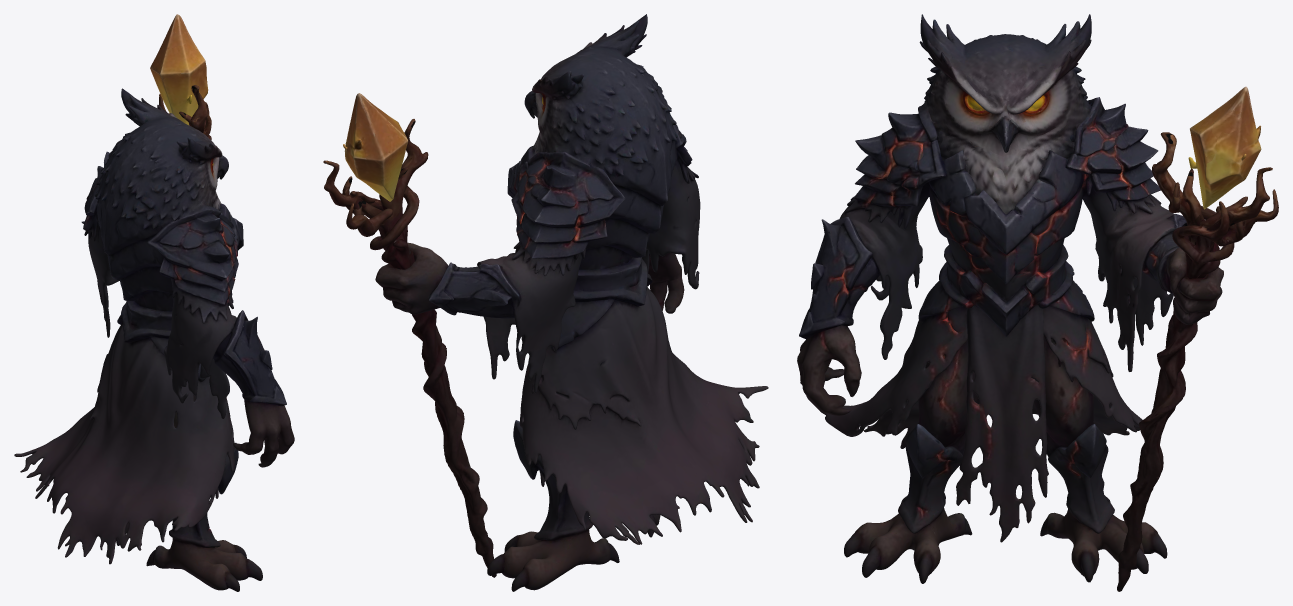
The model's file is umber_model.glb.
The picture shows the model from 3 angles, left to right: view 1: azimuth 30°, elevation 25°; view 2: azimuth 150°, elevation 25°; view 3: azimuth 270°, elevation 25°; orthographic projection. The views are drawn at different scales.
Visible parts, largest first — view 1: tripo_part_7, tripo_part_0, tripo_part_5, tripo_part_1, tripo_part_13, tripo_part_6, tripo_part_9, tripo_part_11; view 2: tripo_part_7, tripo_part_9, tripo_part_5, tripo_part_11, tripo_part_8, tripo_part_0, tripo_part_6, tripo_part_13; view 3: tripo_part_7, tripo_part_0, tripo_part_9, tripo_part_5, tripo_part_6, tripo_part_11, tripo_part_1, tripo_part_8, tripo_part_13.
Part boxes in pixels (x1,y1,x2,y2): tripo_part_7: (14,300,234,564); tripo_part_0: (147,204,294,467); tripo_part_5: (95,88,228,255); tripo_part_1: (146,395,262,591); tripo_part_13: (150,14,208,125); tripo_part_6: (107,194,243,311); tripo_part_9: (81,151,119,337); tripo_part_11: (159,85,211,140); tripo_part_7: (519,257,768,544); tripo_part_9: (375,149,625,393); tripo_part_5: (524,14,677,205); tripo_part_11: (323,119,496,577); tripo_part_8: (487,420,619,591); tripo_part_0: (642,102,700,313); tripo_part_6: (507,132,663,270); tripo_part_13: (343,93,407,201); tripo_part_7: (819,245,1142,542); tripo_part_0: (797,101,946,415); tripo_part_9: (1065,97,1223,371); tripo_part_5: (919,14,1092,156); tripo_part_6: (926,132,1085,300); tripo_part_11: (1117,132,1278,591); tripo_part_1: (844,340,979,583); tripo_part_8: (1031,336,1167,582); tripo_part_13: (1188,86,1261,209).
Bounding box in the file's own units: 0.5919 × 1 × 0.8005.
Materials: 10 (10 with a texture image).
